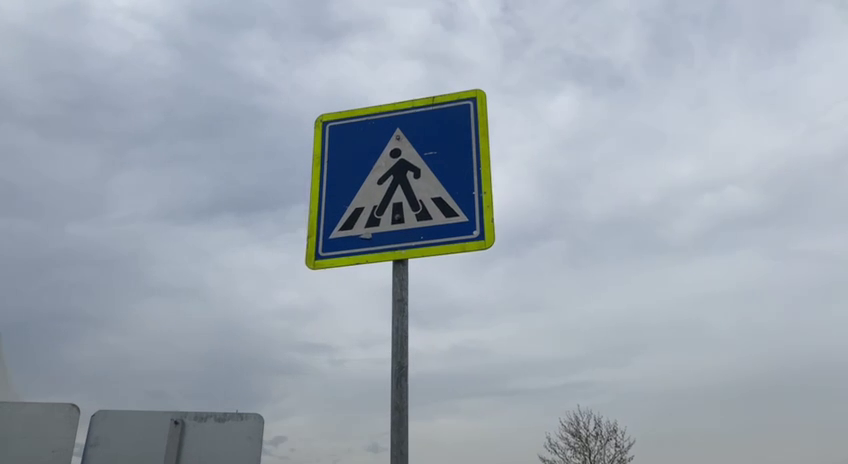pedestrianCrossing: (302, 88, 497, 269)
